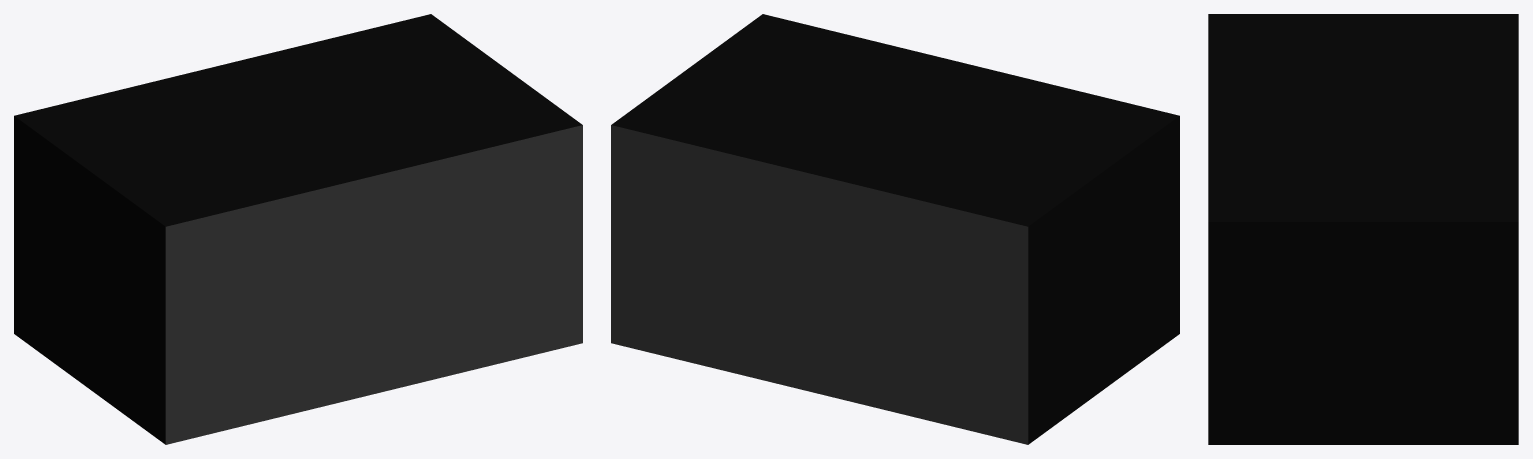
3 renders of one model, left to right at view 1: azimuth 30°, elevation 25°; view 2: azimuth 150°, elevation 25°; view 3: azimuth 270°, elevation 25°, orthographic. The views are drawn at different scales.
Parts seen in each view (by area): view 1: -_DeltaBlock_Black; view 2: -_DeltaBlock_Black; view 3: -_DeltaBlock_Black.
Boxes of the visible parts, x1,y1,x2,y2 form: -_DeltaBlock_Black: (14,14,582,444); -_DeltaBlock_Black: (611,14,1179,444); -_DeltaBlock_Black: (1208,14,1518,444).
Size of what is drawn, in the model's own units: 0.0714 by 0.0357 by 0.045.
Materials: 2 (2 with a texture image).
